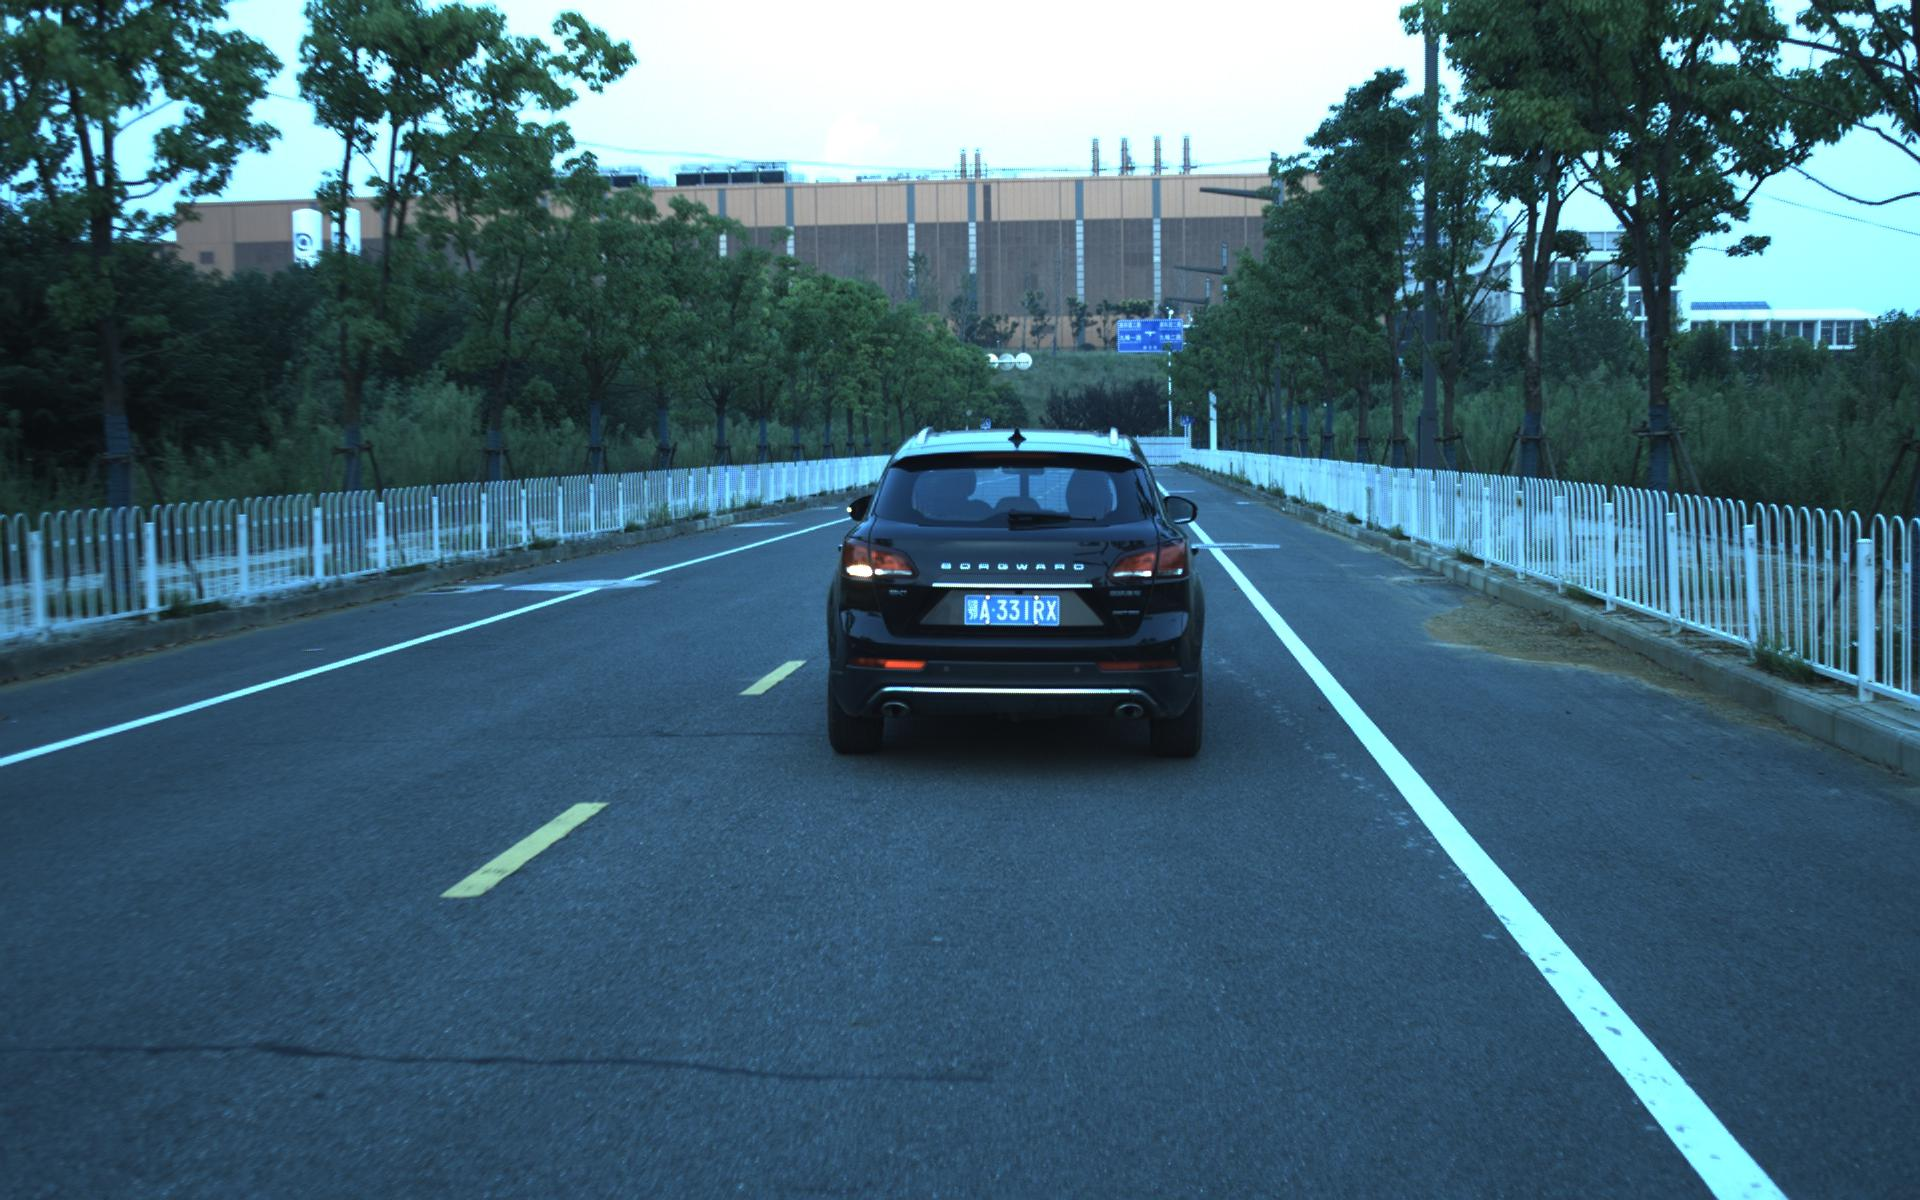Car: (814, 418, 1208, 766)
